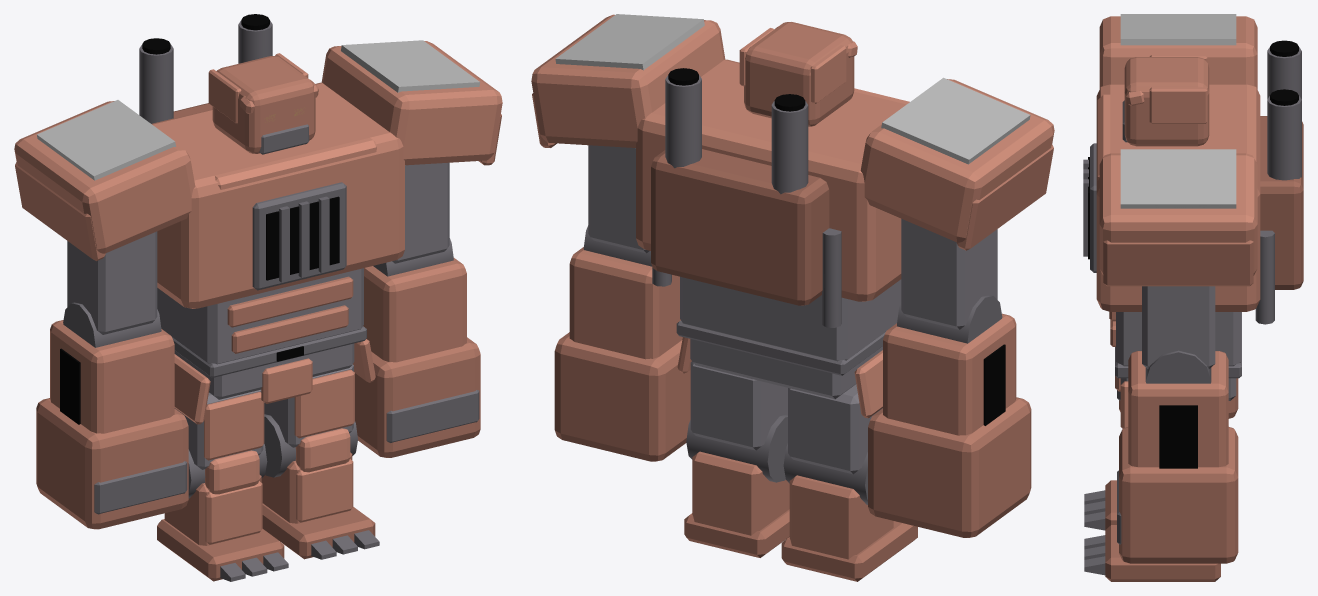
File: brute.glb
3 renders of one model, left to right at view 1: azimuth 30°, elevation 25°; view 2: azimuth 150°, elevation 25°; view 3: azimuth 270°, elevation 25°, orthographic. The views are drawn at different scales.
Visible parts, largest first — view 1: brute.008, brute*0.012, brute.012, brute.013, brute*0.011, brute*0.9, brute*0.8, gunmetal*1.006, gunmetal*1.004, brute*0.005, glow*0.008, glow*0.2 (+38 smaller); view 2: brute*0.6, brute.008, brute*0.012, brute*0.8, brute.013, brute.012, brute*0.011, gunmetal*1.004, brute*0.9, gunmetal*1.006, brute*0.005, glow*0.008 (+21 smaller); view 3: brute*0.8, brute.008, brute.012, brute*0.9, glow*0.2, brute*0.008, gunmetal*1.005, brute*0.005, brute.013, brute*0.6, glow*0.008, brute*0.7 (+17 smaller).
Part boxes in pixels (left/top/right/bottom): brute.008: left=152, top=82, right=404, bottom=308; brute*0.012: left=36, top=398, right=188, bottom=529; brute.012: left=321, top=41, right=502, bottom=165; brute.013: left=14, top=101, right=195, bottom=253; brute*0.011: left=50, top=320, right=174, bottom=433; brute*0.9: left=363, top=258, right=466, bottom=362; brute*0.8: left=355, top=337, right=480, bottom=457; gunmetal*1.006: left=67, top=231, right=157, bottom=334; gunmetal*1.004: left=157, top=268, right=363, bottom=364; brute*0.005: left=212, top=56, right=315, bottom=153; glow*0.008: left=36, top=100, right=175, bottom=180; glow*0.2: left=341, top=40, right=480, bottom=92; brute*0.6: left=651, top=149, right=829, bottom=305; brute.008: left=636, top=59, right=906, bottom=301; brute*0.012: left=868, top=397, right=1031, bottom=537; brute*0.8: left=554, top=332, right=690, bottom=461; brute.013: left=860, top=79, right=1054, bottom=242; brute.012: left=531, top=14, right=725, bottom=147; brute*0.011: left=883, top=313, right=1016, bottom=435; gunmetal*1.004: left=680, top=276, right=901, bottom=361; brute*0.9: left=569, top=247, right=682, bottom=359; gunmetal*1.006: left=901, top=219, right=997, bottom=329; brute*0.005: left=744, top=22, right=854, bottom=126; glow*0.008: left=881, top=77, right=1030, bottom=164; brute*0.8: left=1119, top=427, right=1238, bottom=563; brute.008: left=1096, top=84, right=1260, bottom=311; brute.012: left=1099, top=153, right=1257, bottom=275; brute*0.9: left=1128, top=351, right=1228, bottom=467; glow*0.2: left=1120, top=149, right=1236, bottom=208; brute*0.008: left=1103, top=240, right=1253, bottom=286; gunmetal*1.005: left=1142, top=286, right=1215, bottom=368; brute*0.005: left=1124, top=57, right=1209, bottom=146; brute.013: left=1099, top=16, right=1257, bottom=89; brute*0.6: left=1260, top=116, right=1303, bottom=289; glow*0.008: left=1120, top=14, right=1236, bottom=45; brute*0.7: left=1105, top=525, right=1220, bottom=581.
Bounding box in the file's own units: 2.54 × 2.71 × 1.14.
